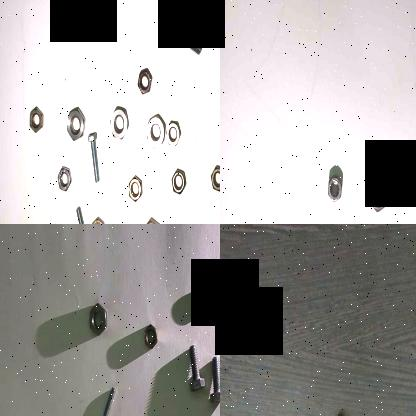Bolts: (174, 12, 204, 58), (184, 334, 204, 402), (205, 348, 220, 406), (86, 126, 100, 184), (95, 381, 115, 416), (72, 204, 91, 224)
NUTS: (364, 168, 390, 214), (86, 300, 110, 338), (144, 112, 166, 150), (64, 104, 86, 142), (109, 105, 130, 142), (325, 169, 343, 206), (134, 66, 152, 102), (140, 321, 160, 353), (54, 160, 72, 192), (27, 102, 44, 134), (203, 276, 220, 308), (168, 165, 186, 195), (165, 120, 180, 148), (207, 161, 220, 192), (128, 176, 142, 202), (140, 213, 162, 224), (88, 214, 105, 224)
